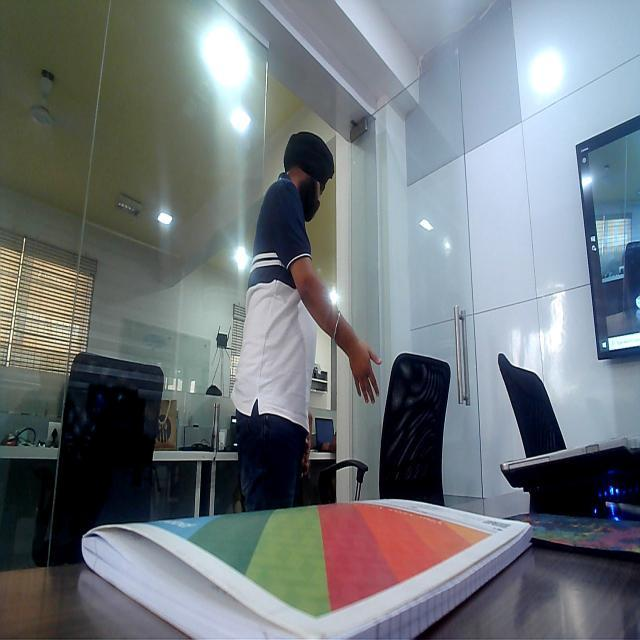without_gloves: (348, 332, 386, 407)
